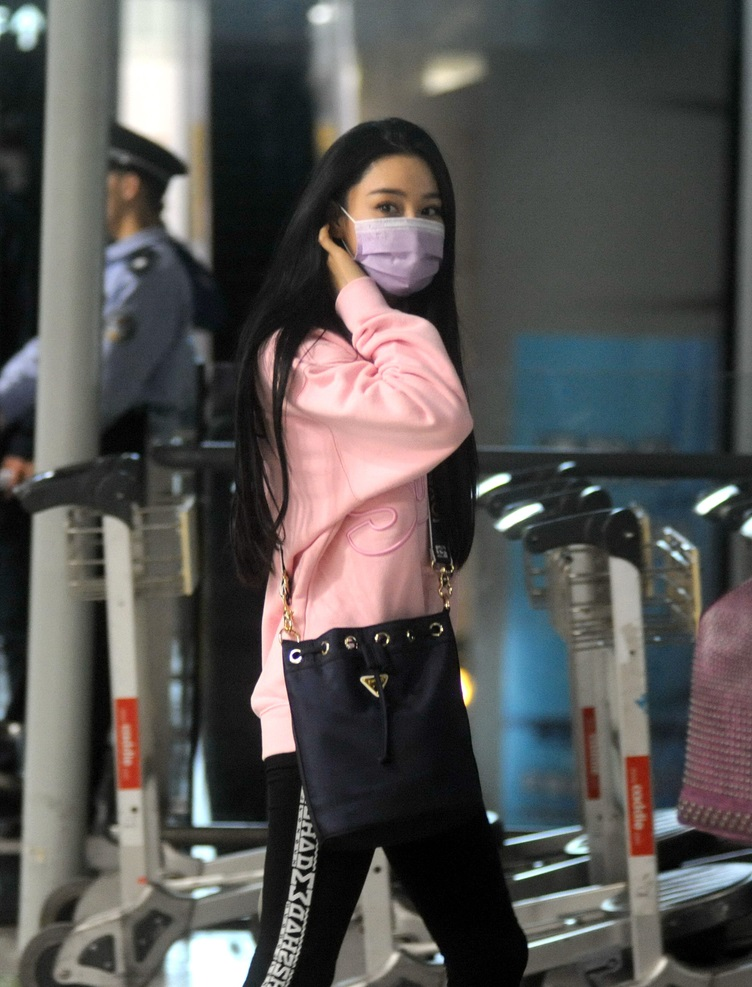face_mask: (343, 155, 442, 299)
